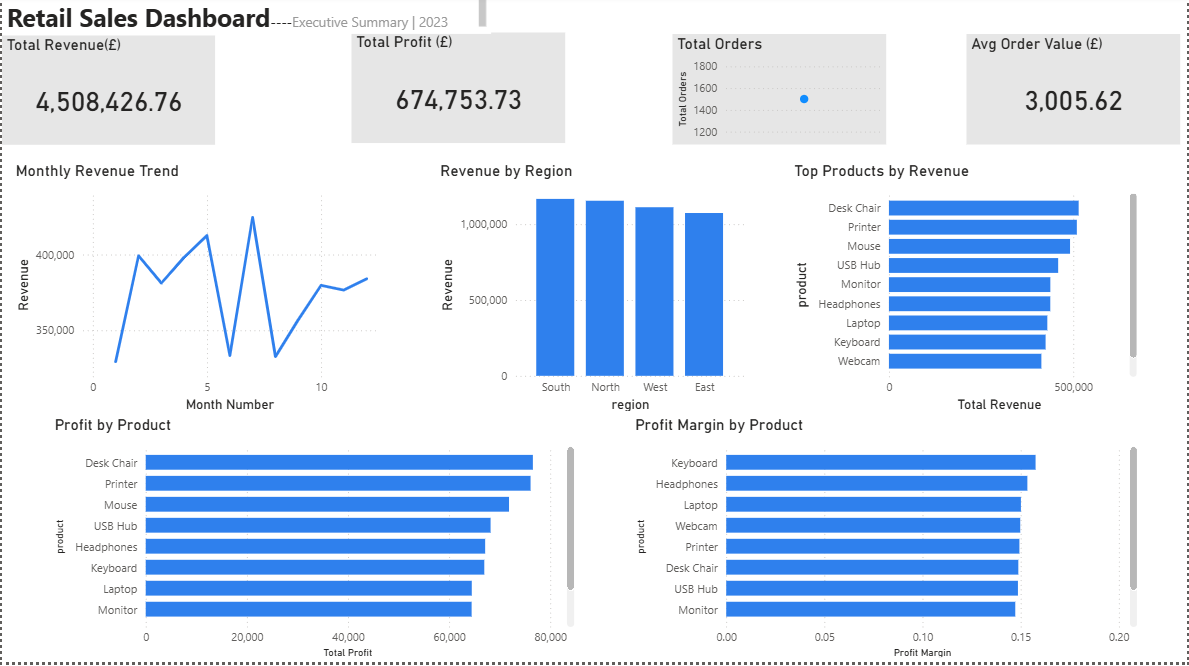

This screenshot's page, from the dashboard's own definition file:
{"tool":"powerbi","page":{"name":"第 1 页","canvas":[1280,720],"ordinal":0},"visuals":[{"type":"card","title":"Total Revenue(£)","fields":{"Values":["Sum(retail_sales_dataset.sales)"]},"box":[0,43.7,229.9,118.2],"z":0},{"type":"card","title":"Total Profit (£)","fields":{"Values":["Sum(retail_sales_dataset.profit)"]},"box":[378,39.7,230.6,119.1],"z":1000},{"type":"lineChart","title":"Total Orders","fields":{"Y":["retail_sales_dataset.Total Orders"]},"box":[723.8,41.6,230.6,119.1],"z":2000},{"type":"card","title":"Avg Order Value (£)","fields":{"Values":["retail_sales_dataset.Avg_Order_Value"]},"box":[1041.3,41.6,230.6,119.1],"z":3000},{"type":"lineChart","title":"Monthly Revenue Trend","fields":{"Category":["retail_sales_dataset.Month Number"],"Y":["Sum(retail_sales_dataset.sales)"]},"box":[9.4,179.5,398.7,274],"z":4000},{"type":"columnChart","title":"Revenue by Region","fields":{"Category":["retail_sales_dataset.region"],"Y":["Sum(retail_sales_dataset.sales)"]},"box":[468.7,179.5,338.3,274],"z":5000},{"type":"barChart","title":"Top Products by Revenue","fields":{"Category":["retail_sales_dataset.product"],"Y":["Sum(retail_sales_dataset.sales)"]},"box":[850.4,179.5,379.8,274],"z":6000},{"type":"clusteredBarChart","title":"Profit by Product","fields":{"Category":["retail_sales_dataset.product"],"Y":["Sum(retail_sales_dataset.profit)"]},"box":[51,453.5,570.7,266.5],"z":7000},{"type":"clusteredBarChart","title":"Profit Margin by Product","fields":{"Y":["retail_sales_dataset.Profit Margin"],"Category":["retail_sales_dataset.product"]},"box":[678.4,453.5,551.8,266.5],"z":8000},{"type":"textbox","box":[0,0,527.9,42.1],"z":9000}]}

Visuals, with their boxes in screenshot pixels (x1, y1, x2, y2), scaled from the page's 1280x720 canvas onto the 1189x666 screenshot:
"Total Revenue(£)" card: (0,40,214,150)
"Total Profit (£)" card: (351,37,565,147)
"Total Orders" lineChart: (672,38,887,149)
"Avg Order Value (£)" card: (967,38,1181,149)
"Monthly Revenue Trend" lineChart: (9,166,379,419)
"Revenue by Region" columnChart: (435,166,750,419)
"Top Products by Revenue" barChart: (790,166,1143,419)
"Profit by Product" clusteredBarChart: (47,419,578,665)
"Profit Margin by Product" clusteredBarChart: (630,419,1143,665)
textbox: (0,0,490,39)
